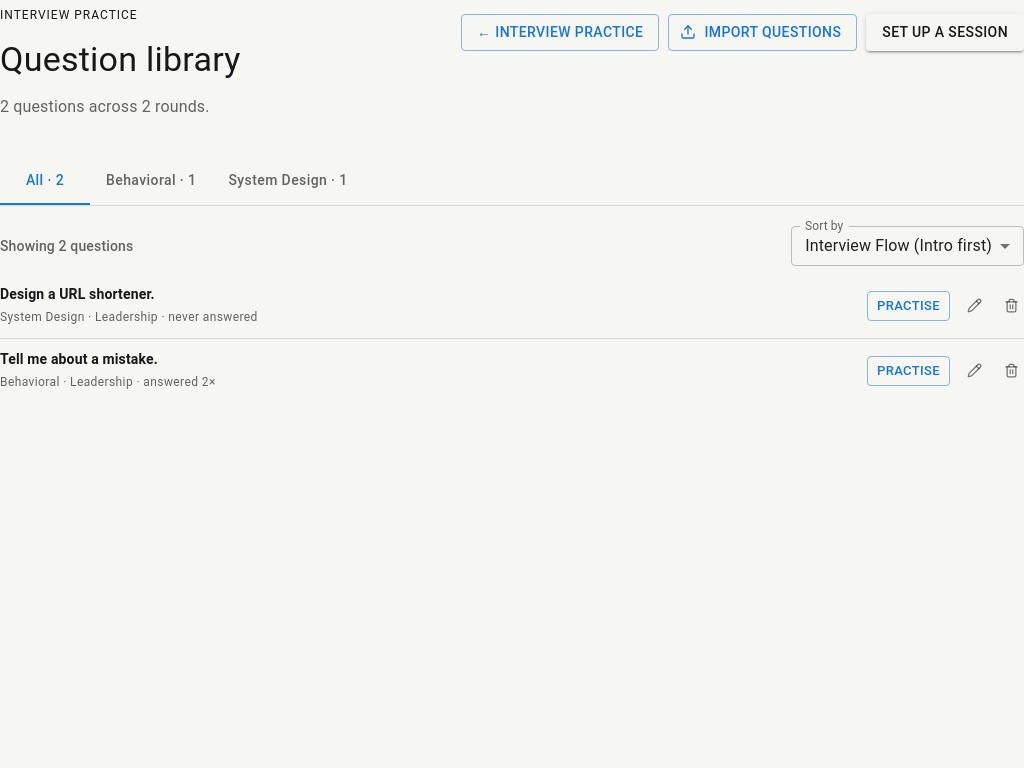
Test: InterviewLibraryPage › edits a question and shows the saved text
Click the button named "Edit Tell me about a mistake.".
click(974, 371)  # box [962, 358, 987, 383]
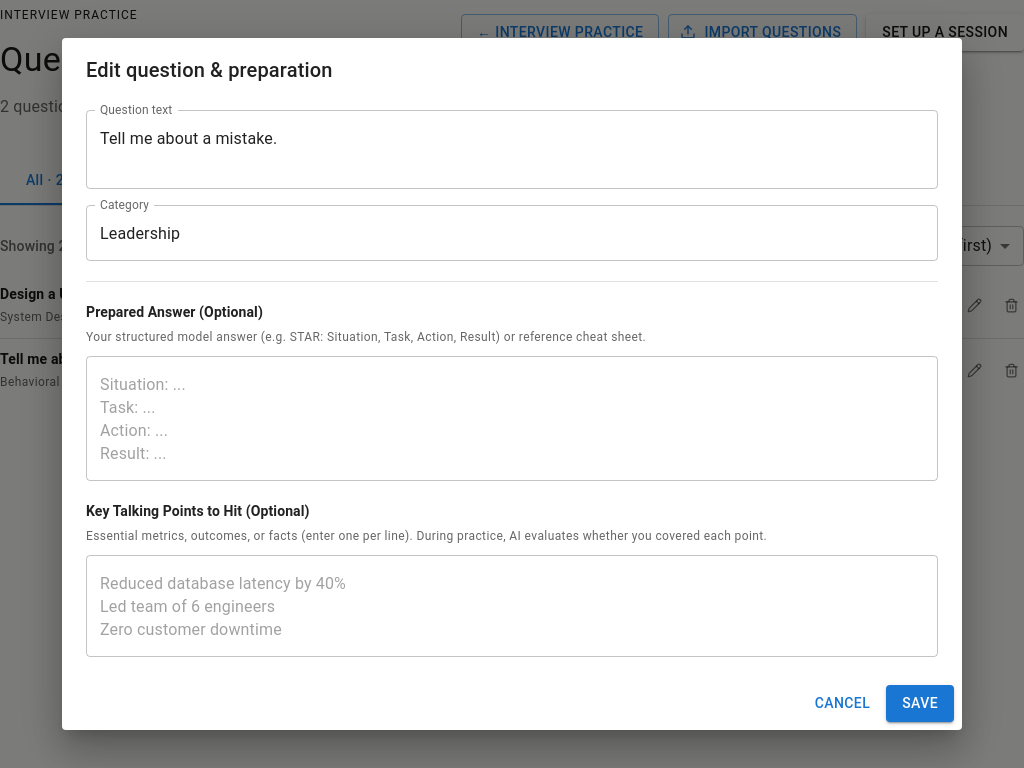
Replace the text in the text box labelled "Question text" with "Tell me about a big mistake." at (512, 150), box [100, 127, 924, 173]
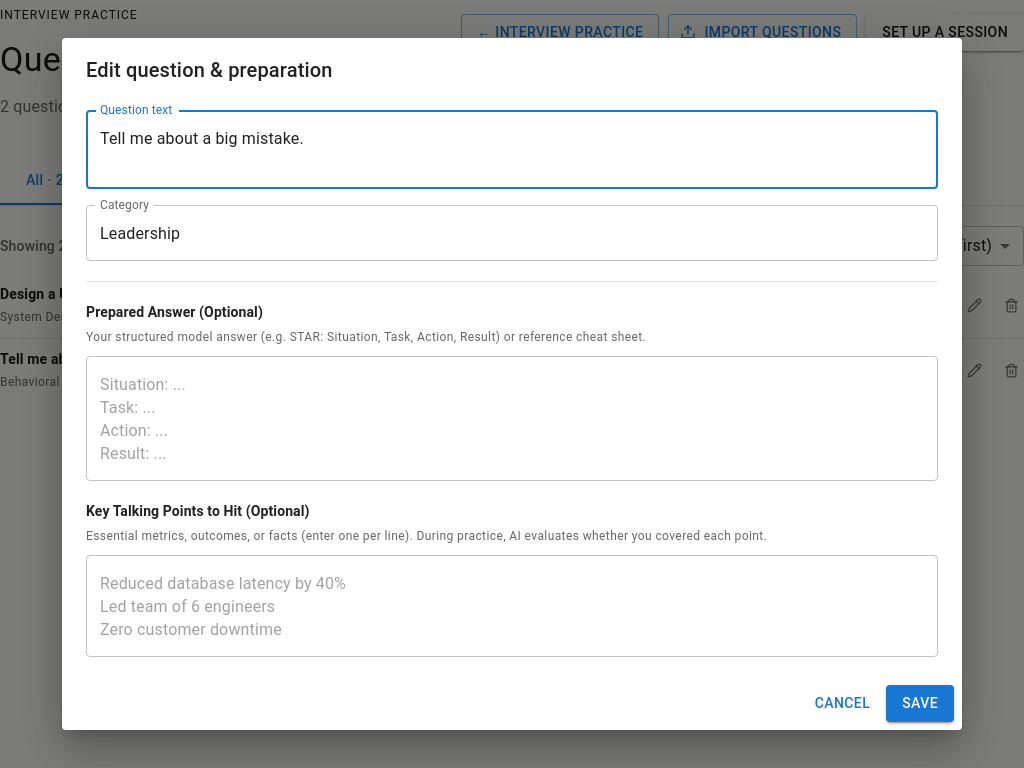
Click the button "Save".
click(920, 703)  # box [886, 685, 954, 722]
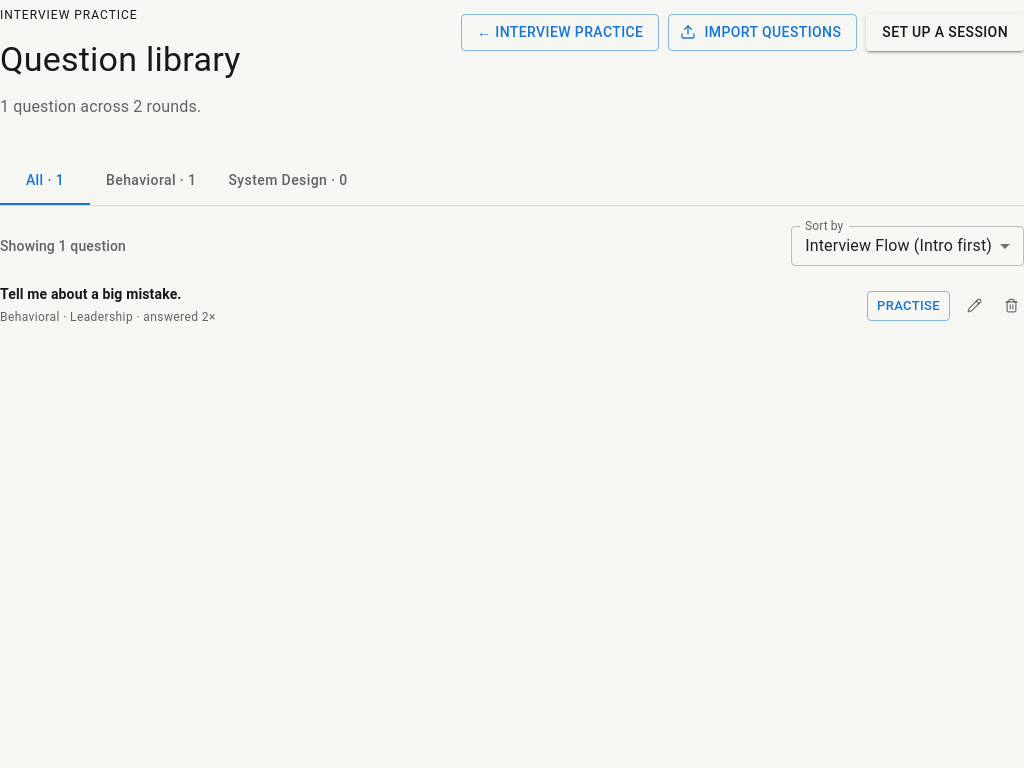
Now the text "Tell me about a big mistake." is shown, box [0, 286, 182, 302]
